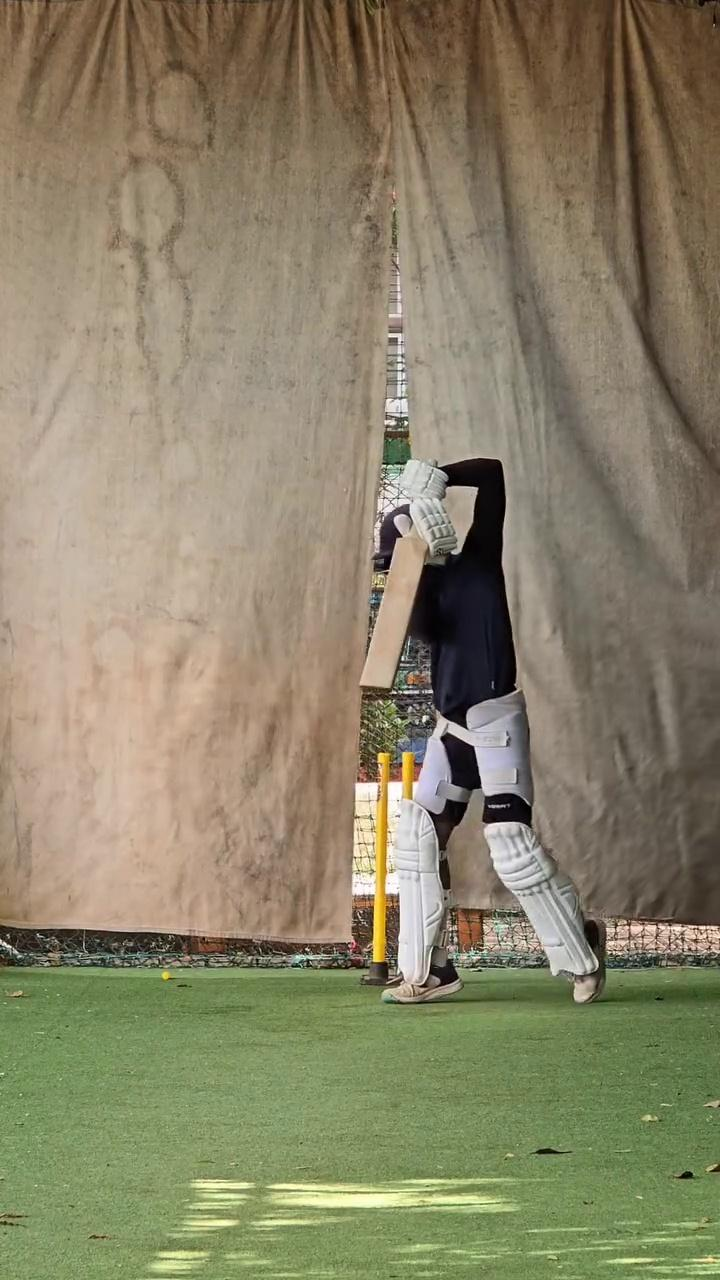bat: (355, 531, 431, 700)
